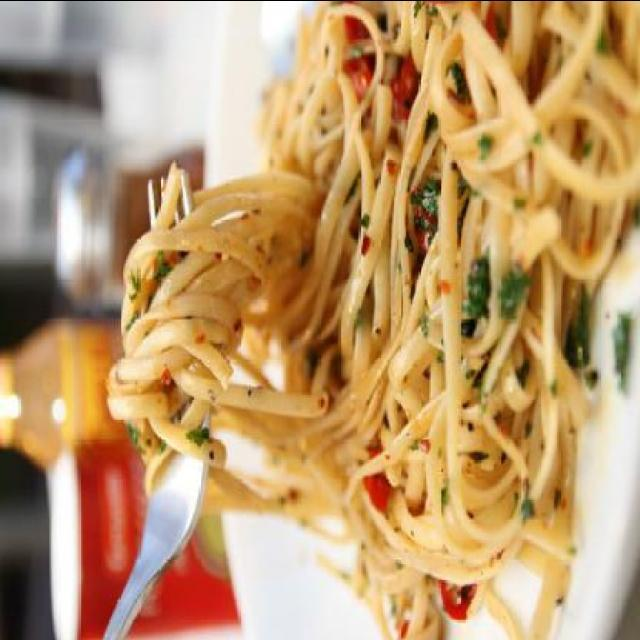Oil pasta: (106, 17, 576, 526)
